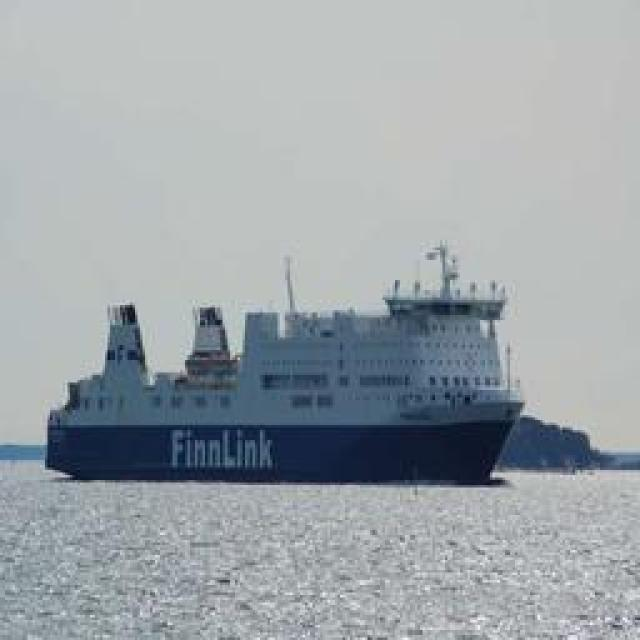CIV_Ship: (54, 284, 526, 484)
